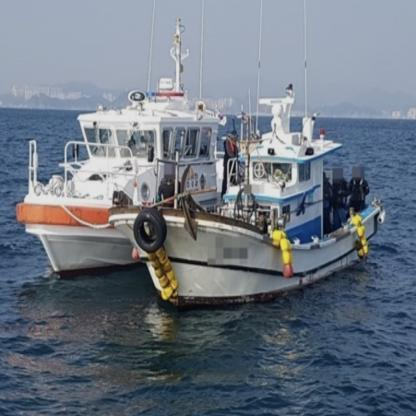Ship: (107, 88, 392, 315), (14, 12, 237, 281)
